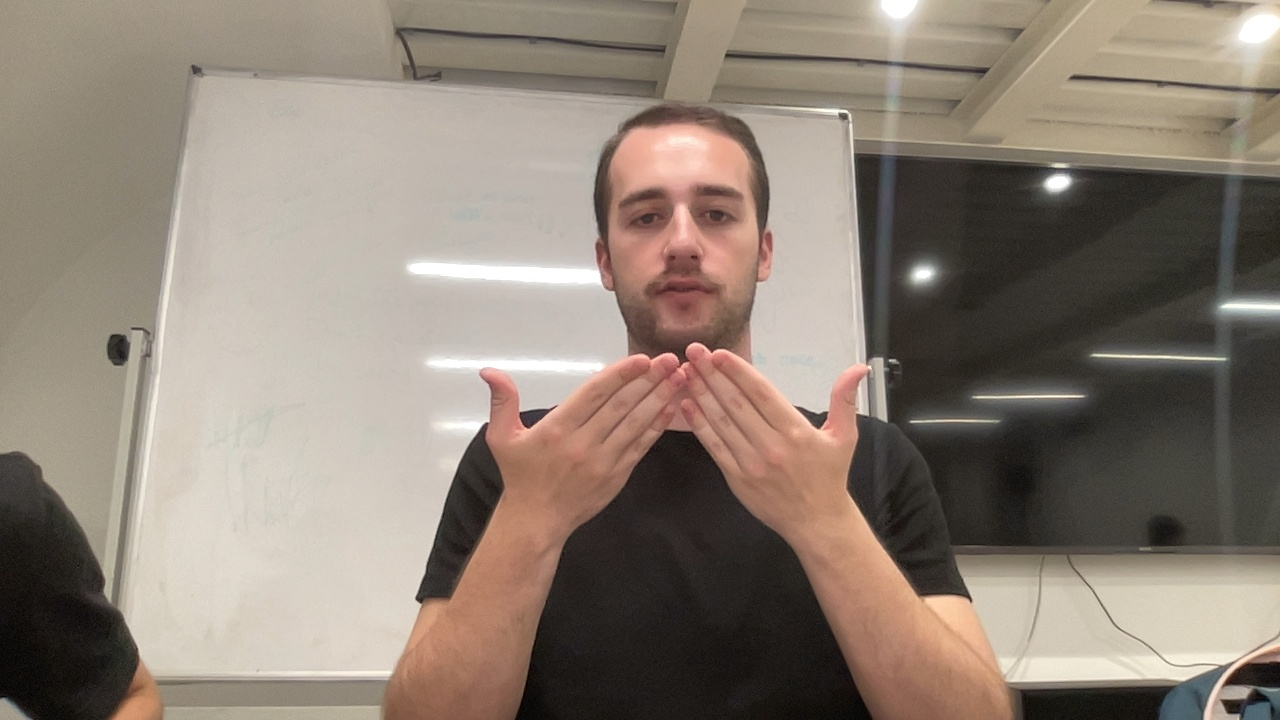Thank You: (474, 338, 875, 548)
